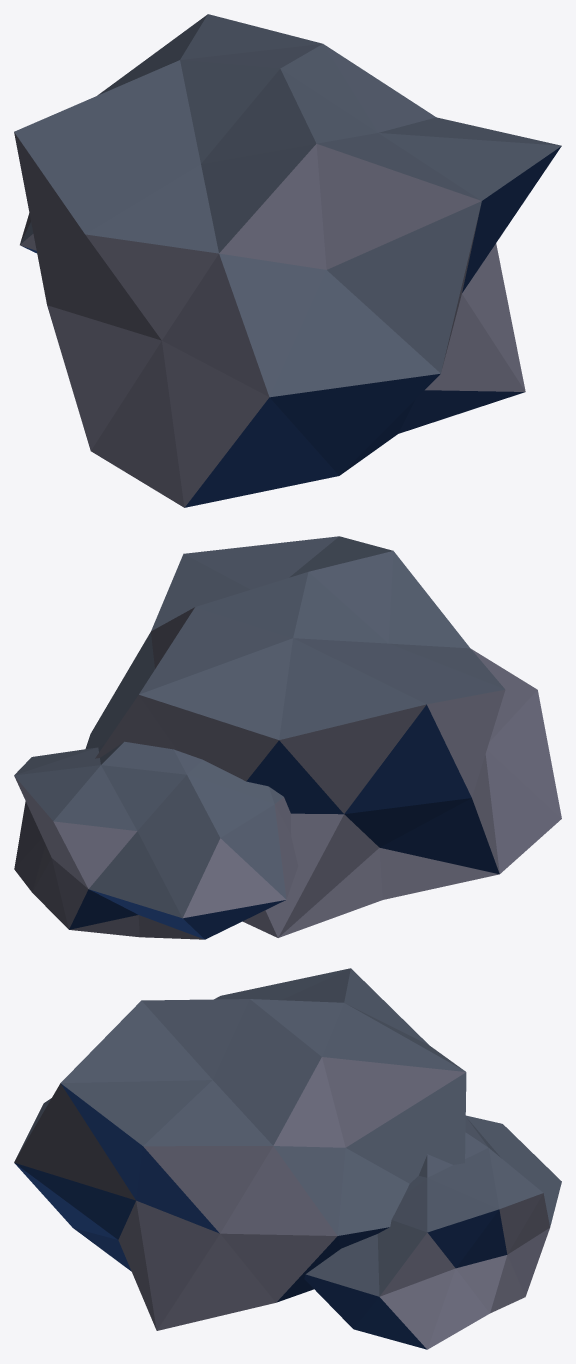
The model's file is Rock_Night.glb.
3 views of the same model, one above another, from view 1: azimuth 30°, elevation 25°; view 2: azimuth 150°, elevation 25°; view 3: azimuth 270°, elevation 25° (orthographic). The views are drawn at different scales.
Visible parts, largest first — view 1: Rock_Night; view 2: Rock_Night; view 3: Rock_Night.
Part boxes in pixels (x1,y1,x2,y2): Rock_Night: (14, 14, 561, 507); Rock_Night: (14, 536, 561, 939); Rock_Night: (14, 968, 561, 1349).
Size of the model in its own units: 3.06 by 2.06 by 3.94.
1 material, 1 textured.
